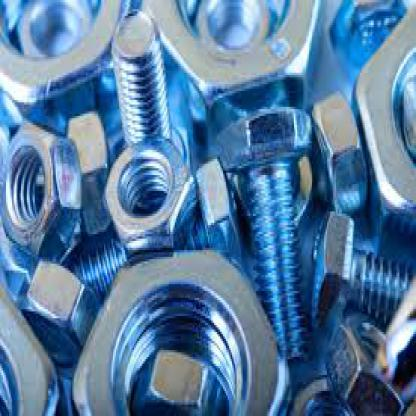METAL: (71, 246, 280, 414), (42, 157, 243, 298), (216, 102, 310, 359), (137, 0, 321, 116), (352, 0, 415, 253), (0, 0, 124, 123), (105, 11, 187, 175), (309, 209, 414, 332), (0, 121, 80, 259), (101, 136, 193, 250), (11, 257, 98, 375), (0, 284, 62, 414), (324, 316, 402, 414), (310, 88, 365, 212), (192, 155, 242, 259), (66, 116, 108, 230), (288, 368, 351, 414)
